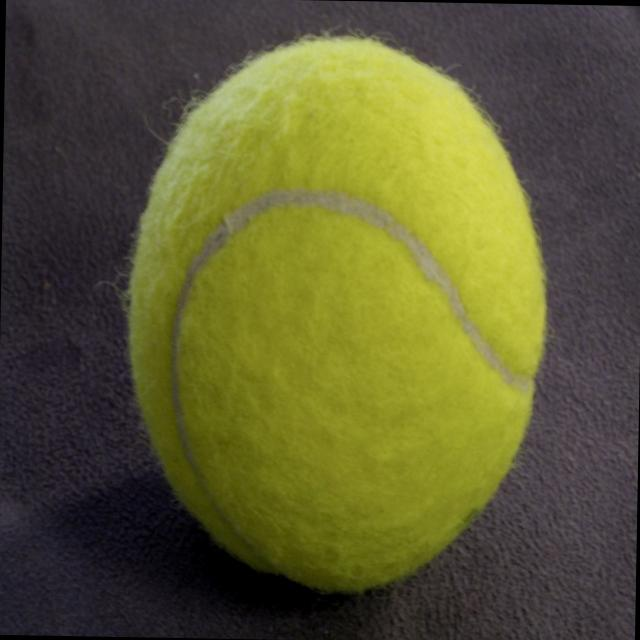Tennis ball: (118, 22, 556, 598)
